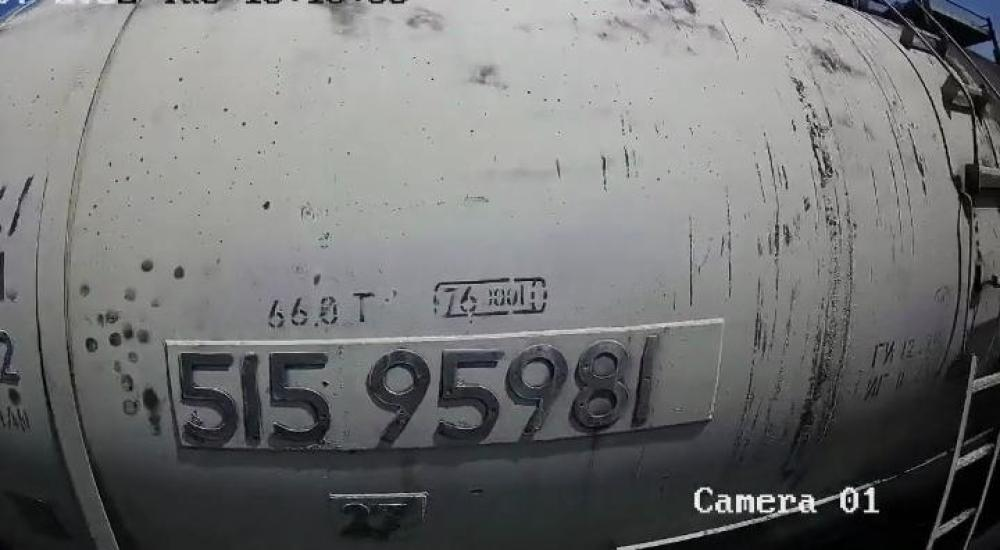Wagon-number: (170, 330, 666, 450)
